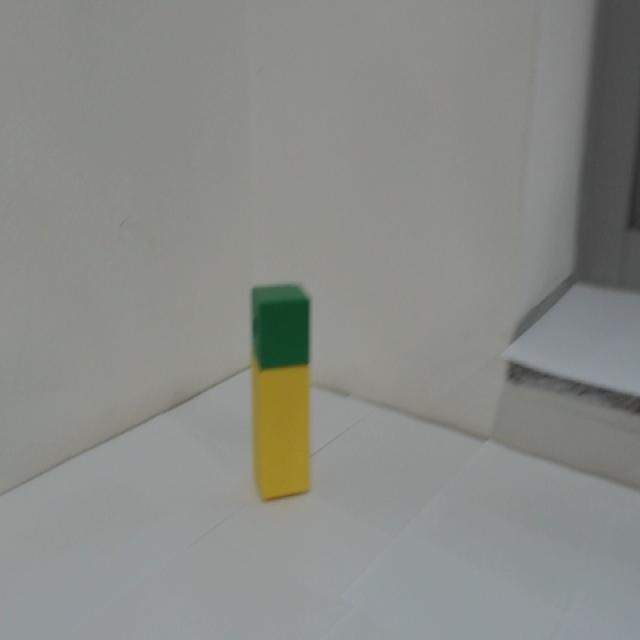cube: (250, 284, 311, 368)
